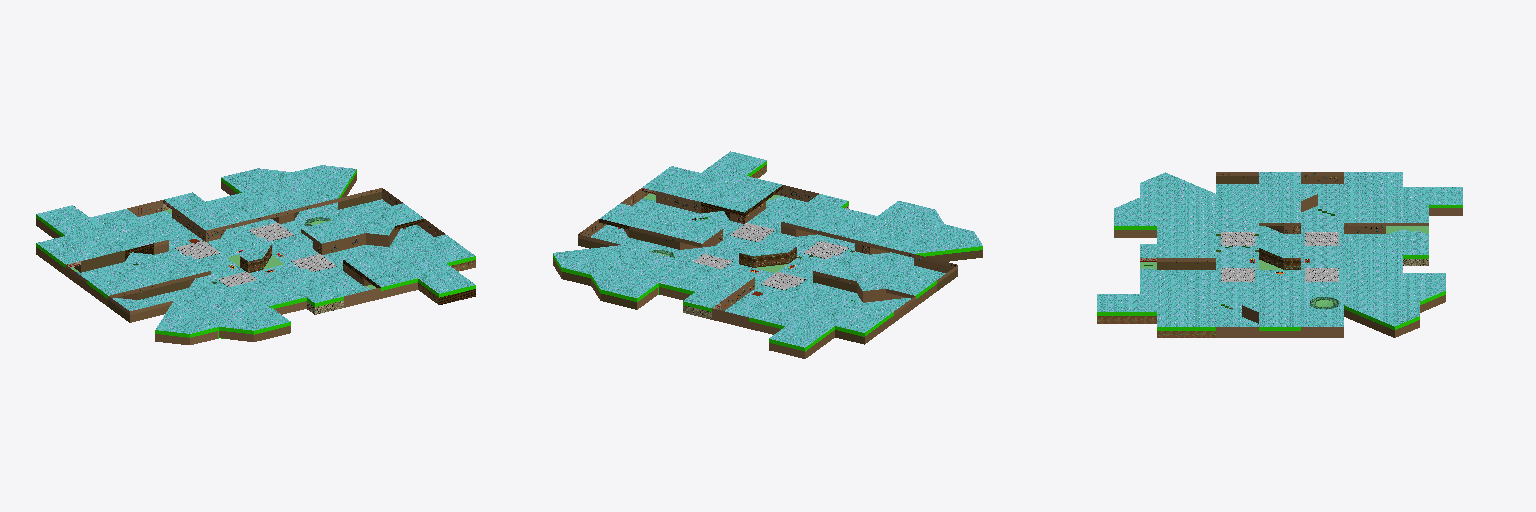
3 renders of one model, left to right at view 1: azimuth 30°, elevation 25°; view 2: azimuth 150°, elevation 25°; view 3: azimuth 270°, elevation 25°, orthographic.
Visible parts, largest first — view 1: Mesh_0002-SKP--Road_0x00_1, Mesh_0002-SKP--Wall_0x0C_7, Mesh_0002-SKP--Wall_0x0C_6, Mesh_0002-SKP--Default_Material, Mesh_0002-SKP--Road_0x00_3, Mesh_0002-SKP--Wall_0x0C_4, Mesh_0002-SKP--Wall_0x0C_2; view 2: Mesh_0002-SKP--Road_0x00_1, Mesh_0002-SKP--Wall_0x0C_7, Mesh_0002-SKP--Wall_0x0C_6, Mesh_0002-SKP--Wall_0x0C_4, Mesh_0002-SKP--Road_0x00_3, Mesh_0002-SKP--Default_Material, Mesh_0002-SKP--Wall_0x0C_1, Mesh_0002-SKP--Wall_0x0C_2; view 3: Mesh_0002-SKP--Road_0x00_1, Mesh_0002-SKP--Wall_0x0C_7, Mesh_0002-SKP--Wall_0x0C_6, Mesh_0002-SKP--Road_0x00_3, Mesh_0002-SKP--Default_Material, Mesh_0002-SKP--Wall_0x0C_9, Mesh_0002-SKP--Wall_0x0C_4, Mesh_0002-SKP--Road_0x00_2.
Boxes of the visible parts, box(x1,y1,x2,y2) form: Mesh_0002-SKP--Road_0x00_1: box(37, 165, 474, 333); Mesh_0002-SKP--Wall_0x0C_7: box(66, 181, 444, 344); Mesh_0002-SKP--Wall_0x0C_6: box(36, 173, 400, 341); Mesh_0002-SKP--Default_Material: box(36, 169, 475, 338); Mesh_0002-SKP--Road_0x00_3: box(176, 223, 335, 286); Mesh_0002-SKP--Wall_0x0C_4: box(74, 192, 381, 322); Mesh_0002-SKP--Wall_0x0C_2: box(125, 219, 475, 304); Mesh_0002-SKP--Road_0x00_1: box(553, 151, 982, 347); Mesh_0002-SKP--Wall_0x0C_7: box(578, 185, 957, 358); Mesh_0002-SKP--Wall_0x0C_6: box(553, 201, 952, 358); Mesh_0002-SKP--Wall_0x0C_4: box(562, 230, 982, 344); Mesh_0002-SKP--Road_0x00_3: box(693, 223, 847, 289); Mesh_0002-SKP--Default_Material: box(553, 161, 982, 351); Mesh_0002-SKP--Wall_0x0C_1: box(739, 247, 796, 267); Mesh_0002-SKP--Wall_0x0C_2: box(599, 185, 848, 289); Mesh_0002-SKP--Road_0x00_1: box(1097, 172, 1462, 326); Mesh_0002-SKP--Wall_0x0C_7: box(1114, 172, 1462, 337); Mesh_0002-SKP--Wall_0x0C_6: box(1242, 176, 1445, 337); Mesh_0002-SKP--Road_0x00_3: box(1221, 232, 1338, 281); Mesh_0002-SKP--Default_Material: box(1097, 205, 1462, 330); Mesh_0002-SKP--Wall_0x0C_9: box(1097, 316, 1215, 337); Mesh_0002-SKP--Wall_0x0C_4: box(1157, 176, 1258, 269); Mesh_0002-SKP--Road_0x00_2: box(1140, 226, 1428, 306).
Size of the model in its own units: 33024 by 1296 by 33024.
36 materials, 27 textured.